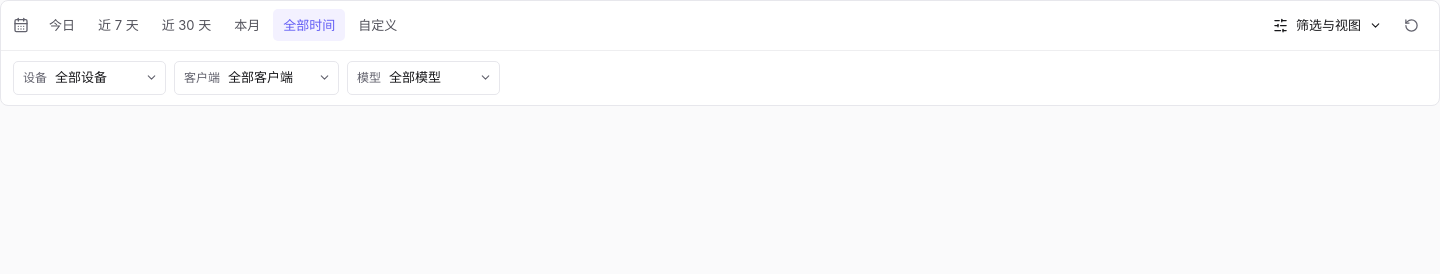
紧凑工作区导航 › 常用筛选始终可见，收起额外条件后保留范围与保存视图
Select "Mac" in the dropdown named "筛选设备" at {"x": 110, "y": 78}, box left=55, top=62, right=165, bottom=94
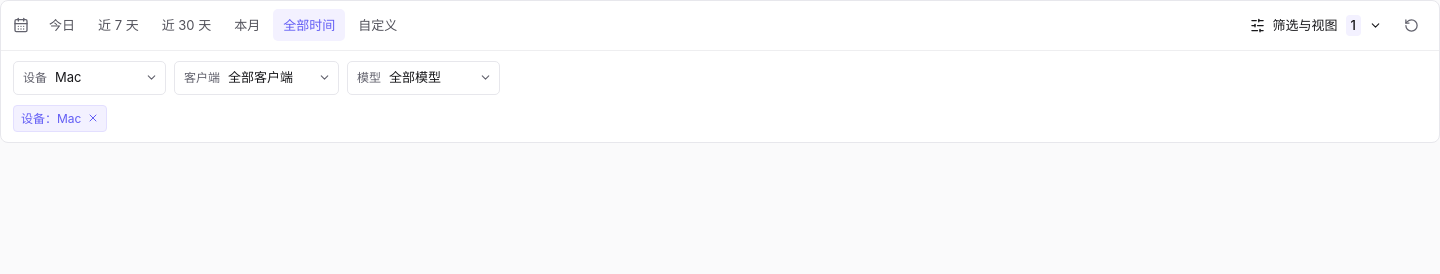
Click the button "筛选与视图 1" at {"x": 1316, "y": 25}, box left=1241, top=9, right=1391, bottom=42
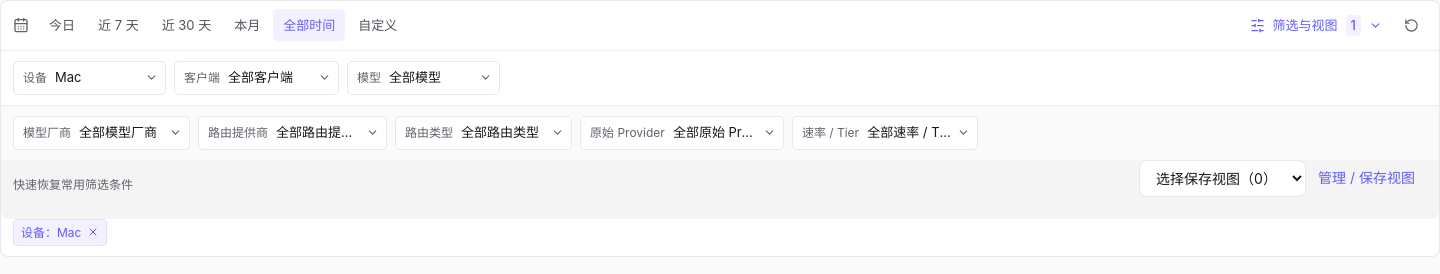
Select "OpenAI" in the dropdown named "筛选模型厂商" at {"x": 134, "y": 133}, box left=79, top=117, right=189, bottom=149
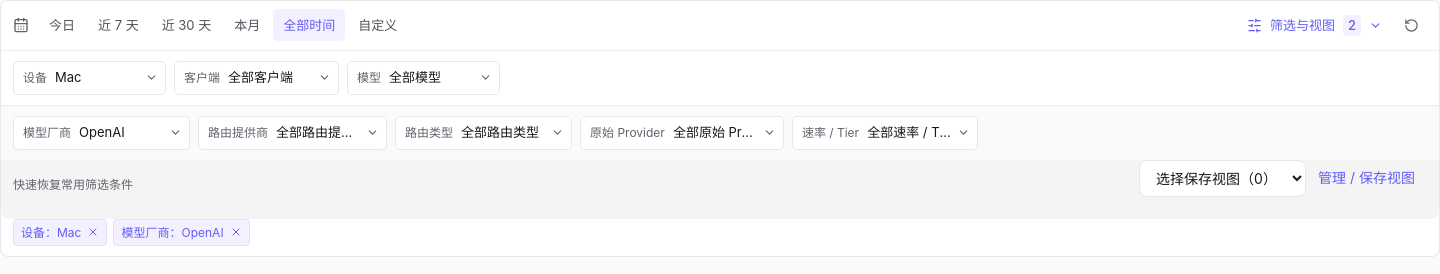
Click the button "筛选与视图 2" at {"x": 1314, "y": 25}, box left=1238, top=9, right=1391, bottom=42
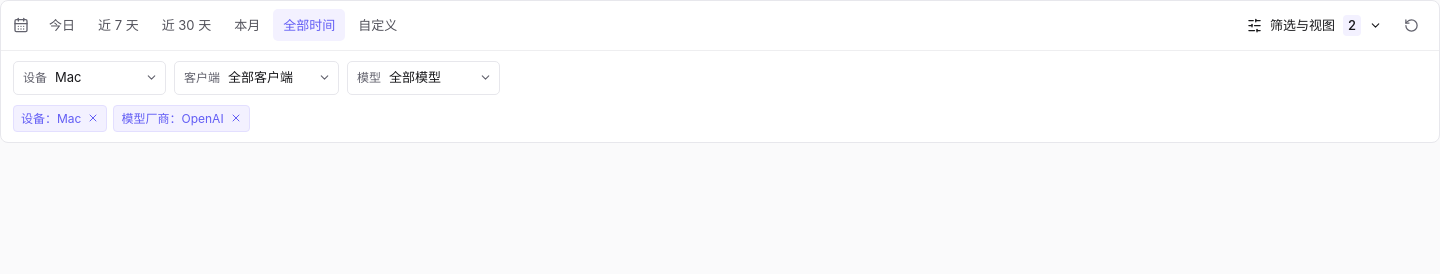
Now the button "设备：Mac" is shown, box left=13, top=105, right=108, bottom=132
Now the dropdown labelled "筛选模型厂商" is gone
Now the button "管理 / 保存视图" is gone
Click the button "筛选与视图 2" at {"x": 1314, "y": 25}, box left=1238, top=9, right=1391, bottom=42
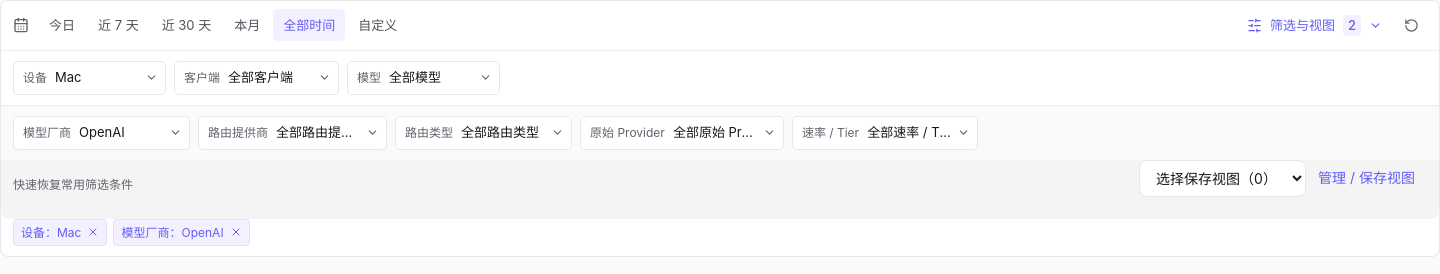
Now the button "管理 / 保存视图" is shown, box left=1318, top=161, right=1415, bottom=196
Now the dropdown named "筛选模型厂商" shows "OpenAI", box left=79, top=117, right=189, bottom=149
